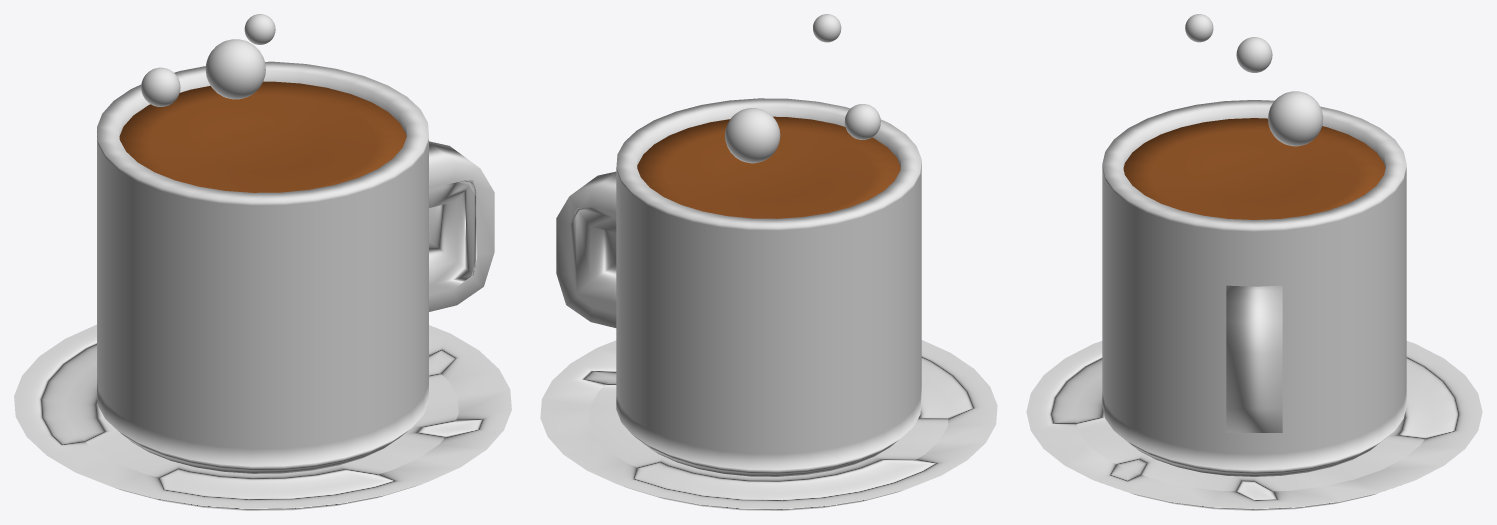
The picture shows the model from 3 angles, left to right: view 1: azimuth 30°, elevation 25°; view 2: azimuth 150°, elevation 25°; view 3: azimuth 270°, elevation 25°; orthographic projection. The views are drawn at different scales.
Visible parts, largest first — view 1: 柱体, 柱体.001, 柱体.002, 立方体, 球体.001, 球体, 球体.002; view 2: 柱体, 柱体.001, 柱体.002, 立方体, 球体.001, 球体, 球体.002; view 3: 柱体, 柱体.001, 柱体.002, 立方体, 球体.001, 球体, 球体.002.
Boxes of the visible parts, <box> form: 柱体: <box>97,61,428,473</box>; 柱体.001: <box>14,324,511,510</box>; 柱体.002: <box>119,81,406,192</box>; 立方体: <box>429,141,494,311</box>; 球体.001: <box>205,39,265,99</box>; 球体: <box>141,67,180,106</box>; 球体.002: <box>244,14,275,44</box>; 柱体: <box>616,98,921,476</box>; 柱体.001: <box>540,340,997,510</box>; 柱体.002: <box>637,116,900,218</box>; 立方体: <box>556,171,616,327</box>; 球体.001: <box>725,108,780,163</box>; 球体: <box>844,104,880,139</box>; 球体.002: <box>813,14,841,42</box>; 柱体: <box>1102,100,1406,476</box>; 柱体.001: <box>1026,341,1482,510</box>; 柱体.002: <box>1123,118,1385,219</box>; 立方体: <box>1226,285,1282,432</box>; 球体.001: <box>1268,91,1323,146</box>; 球体: <box>1236,37,1272,72</box>; 球体.002: <box>1185,14,1213,42</box>.
Bounding box in the file's own units: 300 × 292 × 300.
